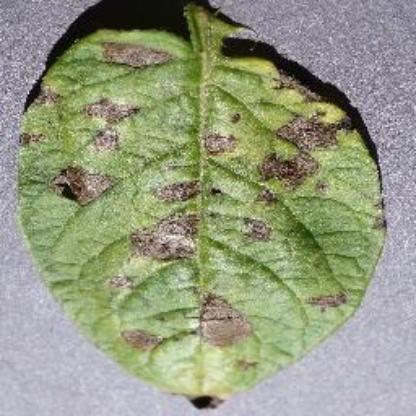Early-Blight: (16, 6, 388, 406)
